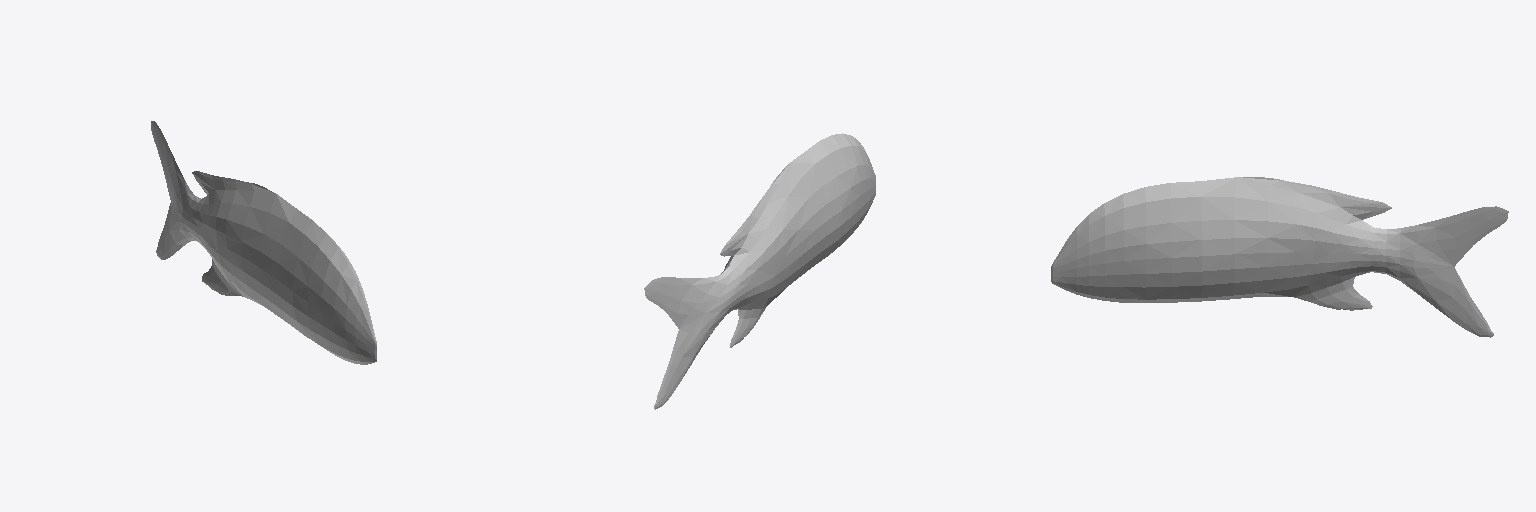
Rendered from ReefFish3.obj.
3 views of the same model, side by side, from view 1: azimuth 30°, elevation 25°; view 2: azimuth 150°, elevation 25°; view 3: azimuth 270°, elevation 25° (orthographic).
Parts seen in each view (by area): view 1: Plane; view 2: Plane; view 3: Plane.
Part boxes in pixels (x1,y1,x2,y2): Plane: (151, 121, 376, 364); Plane: (644, 133, 875, 409); Plane: (1051, 177, 1508, 337).
Bounding box in the file's own units: 0.9647 × 3.03 × 8.01.